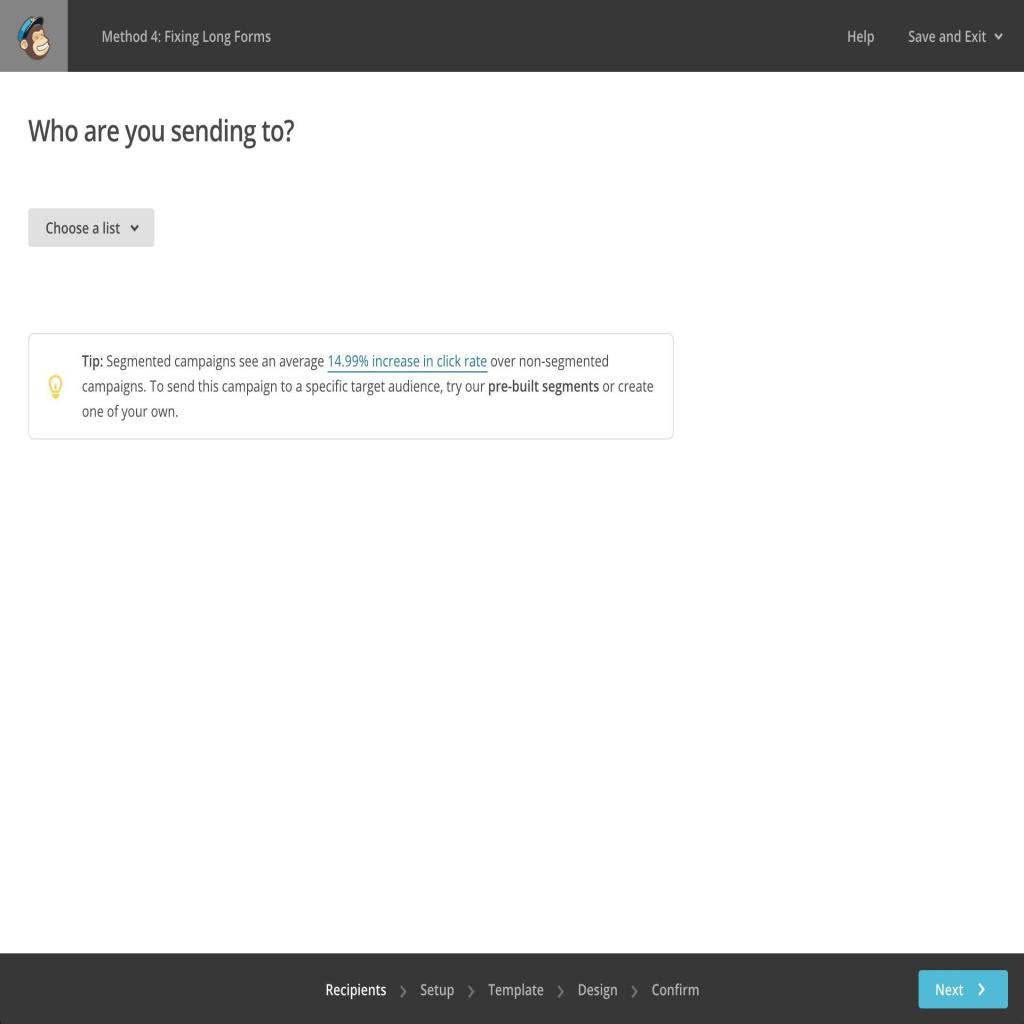button: (918, 970, 1008, 1010)
dropdown: (28, 205, 155, 251)
